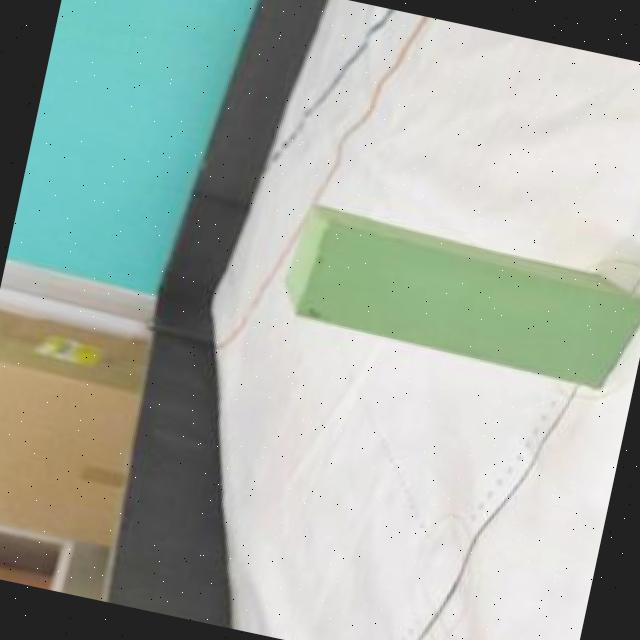greenbox: (273, 198, 640, 393)
